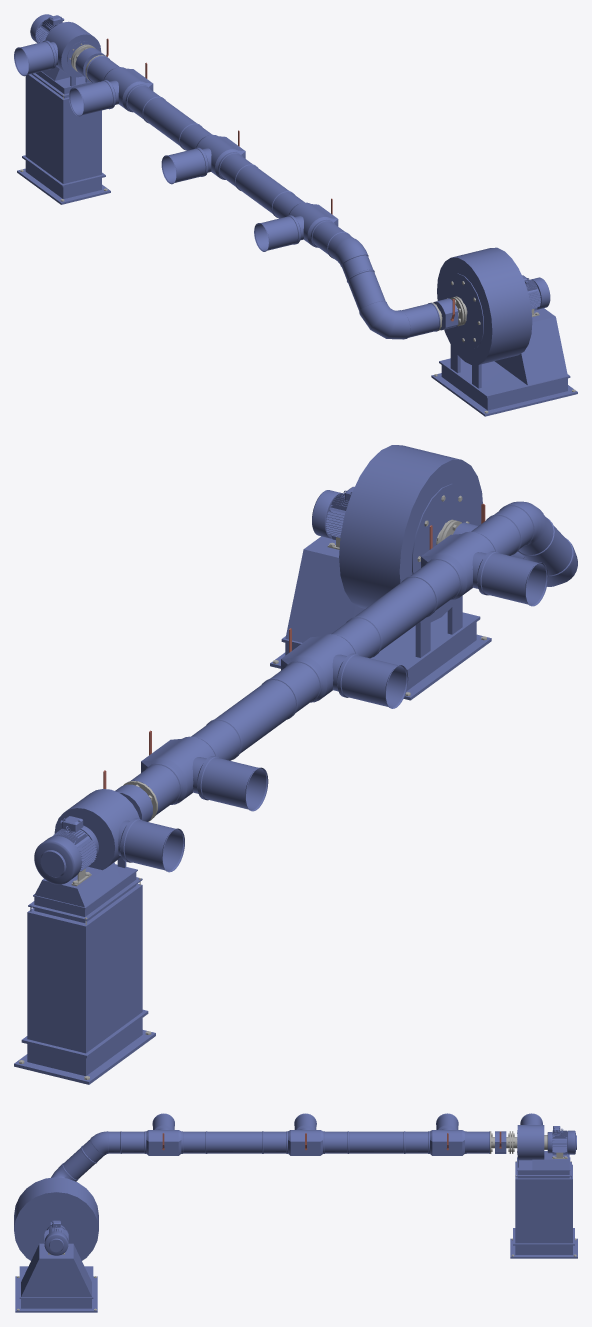
The model's file is Nivavaara-AirPump.fbx.
3 views of the same model, one above another, from view 1: azimuth 30°, elevation 25°; view 2: azimuth 150°, elevation 25°; view 3: azimuth 270°, elevation 25° (orthographic). The views are drawn at different scales.
Parts seen in each view (by area): view 1: Arina-Air-Pump-Frame; view 2: Arina-Air-Pump-Frame; view 3: Arina-Air-Pump-Frame.
Boxes of the visible parts, x1=… form: Arina-Air-Pump-Frame: x1=14, y1=14, x2=577, y2=416; Arina-Air-Pump-Frame: x1=14, y1=445, x2=577, y2=1084; Arina-Air-Pump-Frame: x1=14, y1=1113, x2=577, y2=1312.
Bounding box in the file's own units: 137 × 96 × 398.
